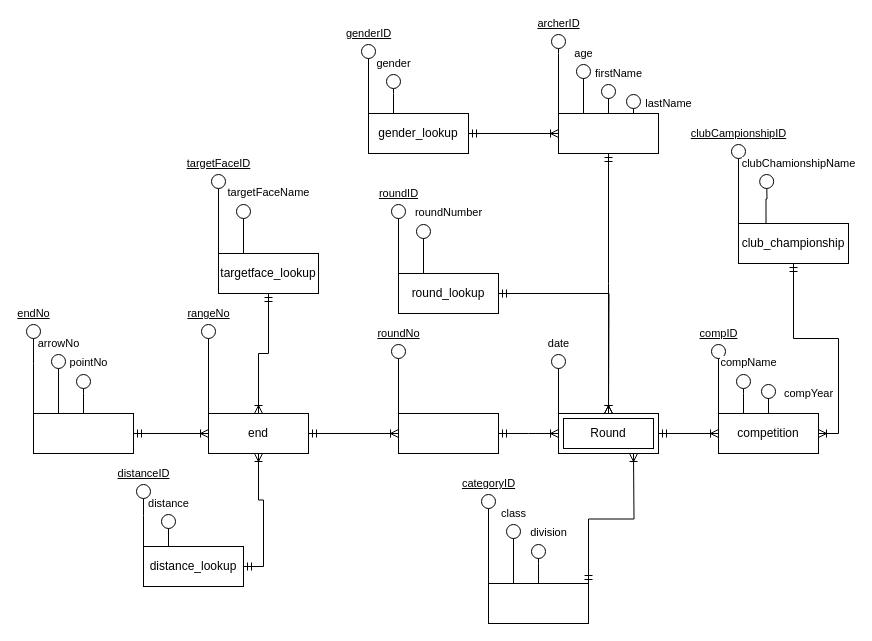
Image size: 872x641. Some labels were removed from this diagram. Each missing label, with the box of its shape:
archer: (558, 112, 658, 154)
category_lookup: (488, 582, 588, 624)
range: (398, 412, 498, 454)
scoring: (32, 412, 134, 454)
